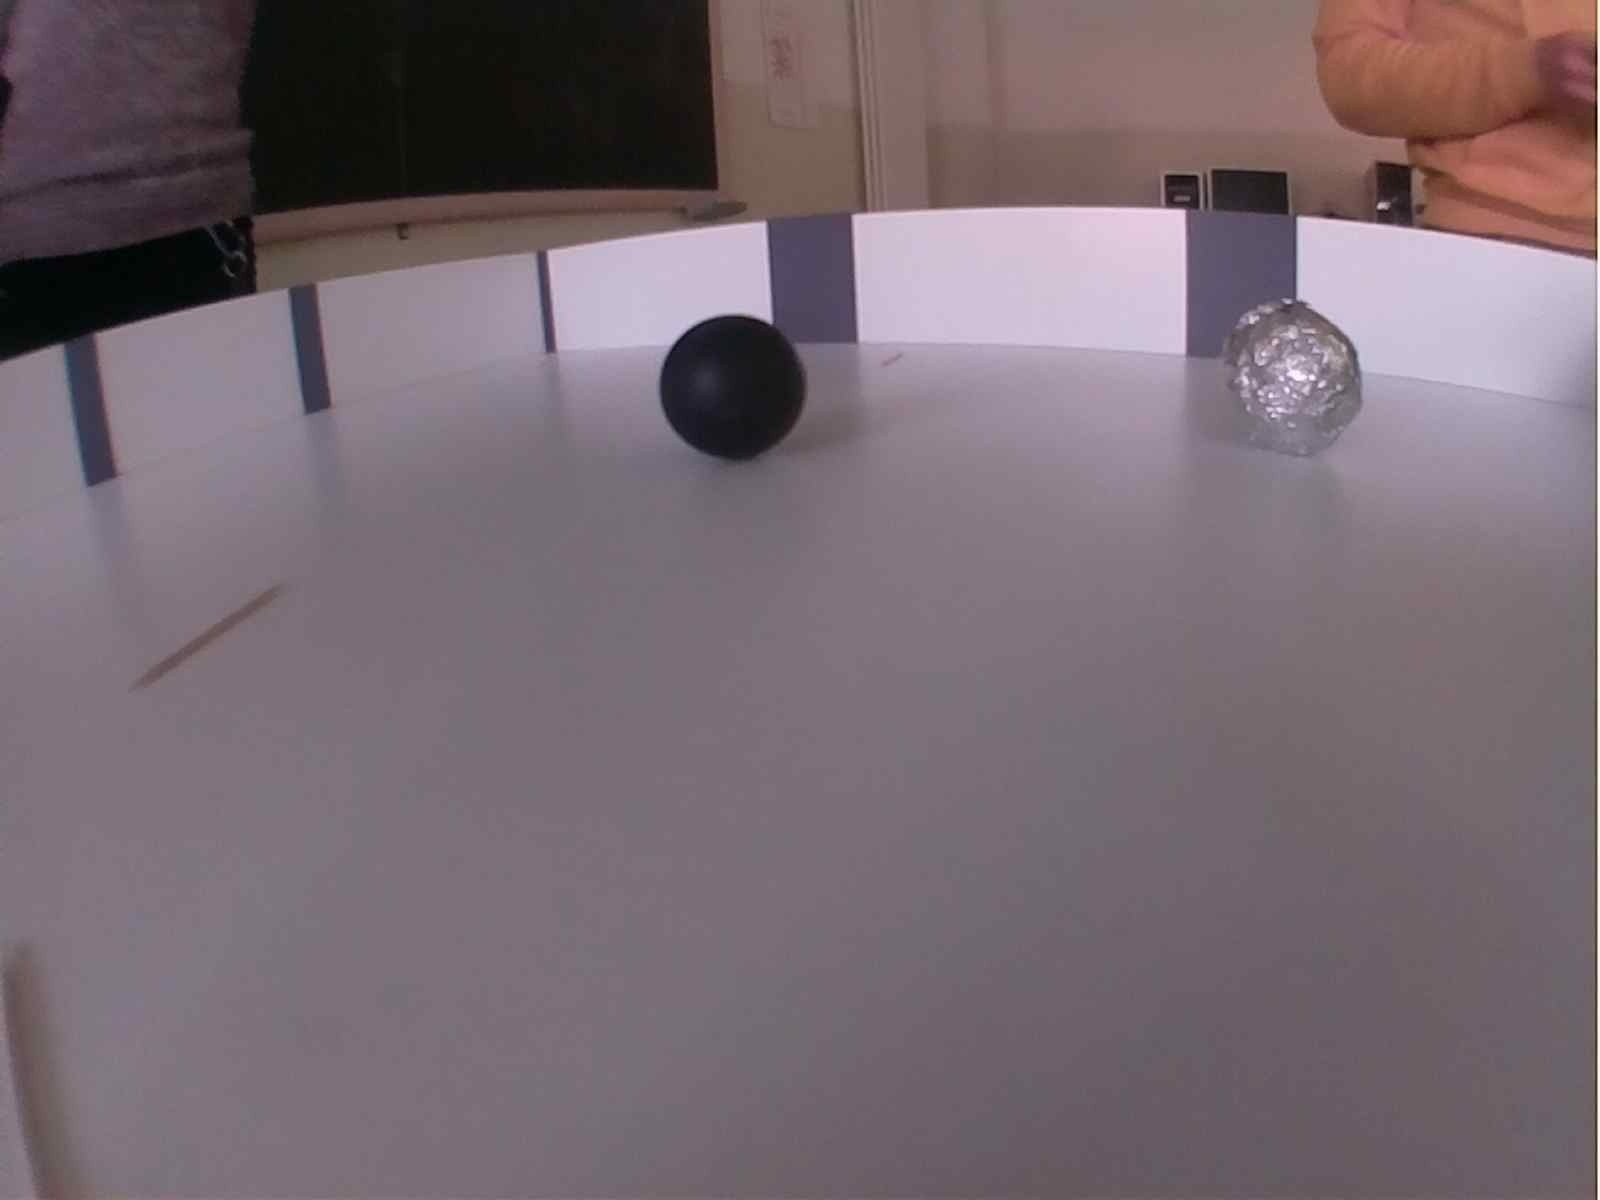bianca: (1211, 301, 1373, 463)
nera: (661, 308, 808, 465)
